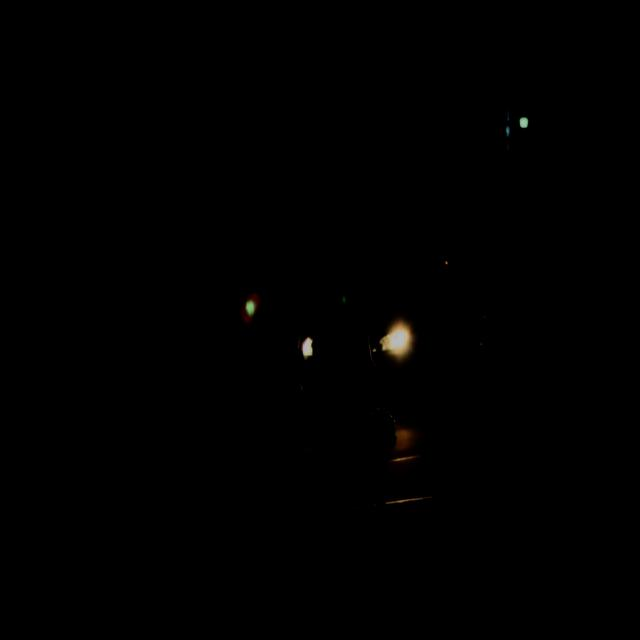Dog: (296, 400, 451, 561)
